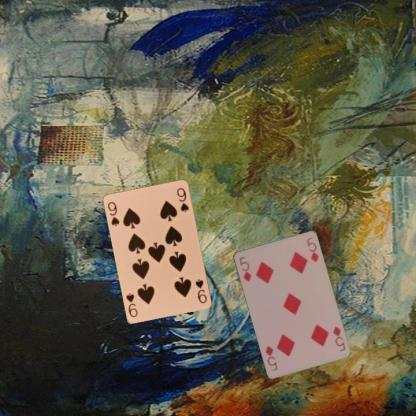5d: (236, 254, 252, 283), (330, 324, 346, 352)
9s: (105, 199, 121, 228), (193, 277, 208, 304)
